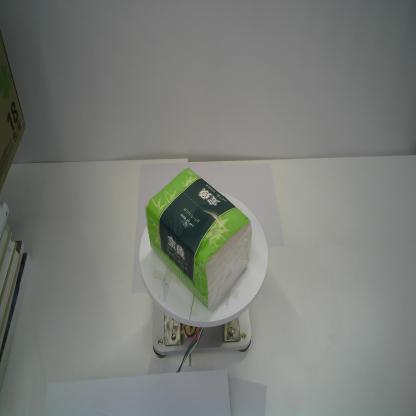Tissue: (145, 167, 252, 310)
